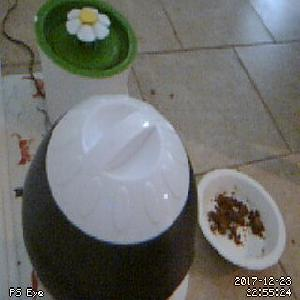fountain: (34, 1, 138, 78)
